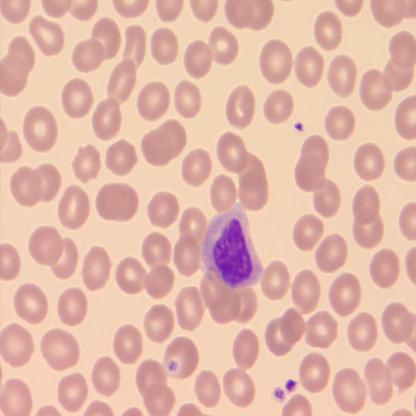Metamyelocyte: (199, 198, 265, 291)
